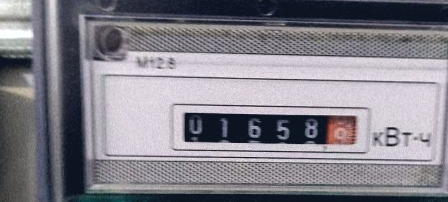0: (186, 112, 203, 133)
1: (216, 113, 230, 138)
5: (274, 116, 290, 140)
6: (245, 115, 263, 139)
8: (302, 116, 319, 138)
9: (331, 124, 347, 145)
screen: (167, 98, 373, 157)
